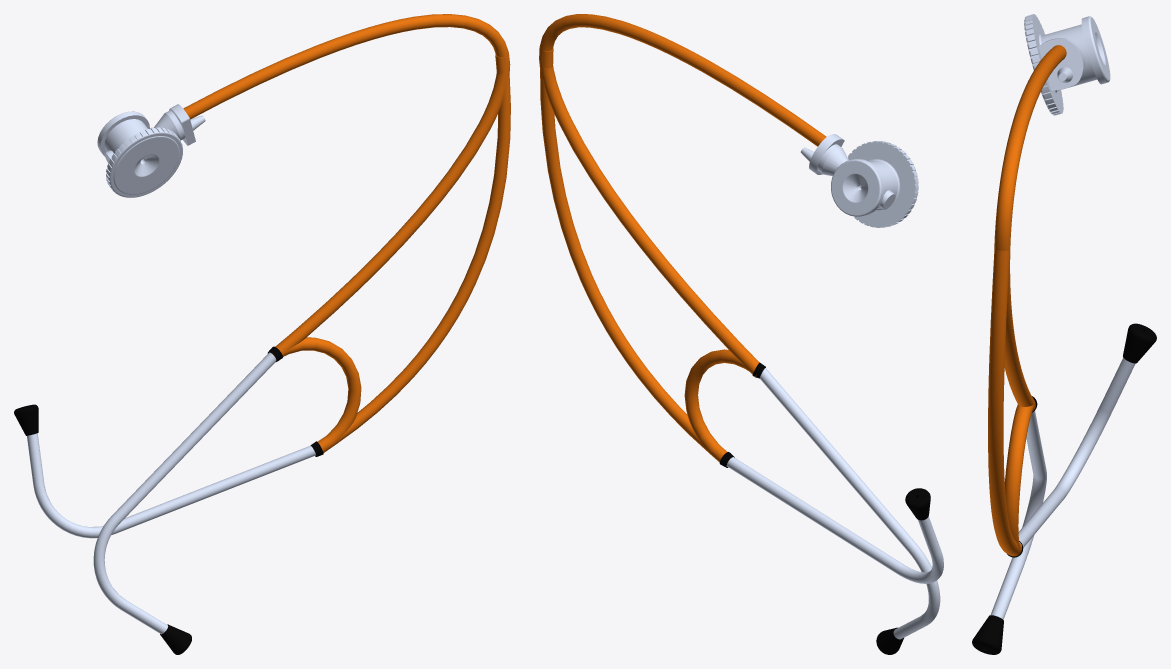
File: fonendoscopio.fbx
3 views of the same model, side by side, from view 1: azimuth 30°, elevation 25°; view 2: azimuth 150°, elevation 25°; view 3: azimuth 270°, elevation 25° (orthographic). The views are drawn at different scales.
Visible parts, largest first — view 1: Sweep5, Sweep1 (×2), Boss-Extrude9; view 2: Sweep5, Sweep1 (×2), Boss-Extrude9, Fillet1; view 3: Sweep5, Sweep1 (×2), Boss-Extrude9, Fillet1 (×2).
Boxes of the visible parts, x1=… form: Sweep5: x1=183, y1=14, x2=510, y2=452; Sweep1 (×2): x1=27, y1=352, x2=315, y2=634; Boss-Extrude9: x1=97, y1=104, x2=205, y2=197; Sweep5: x1=539, y1=14, x2=826, y2=462; Sweep1 (×2): x1=726, y1=368, x2=943, y2=639; Boss-Extrude9: x1=800, y1=134, x2=918, y2=227; Fillet1: x1=905, y1=488, x2=930, y2=520; Sweep5: x1=988, y1=45, x2=1066, y2=556; Sweep1 (×2): x1=990, y1=358, x2=1135, y2=619; Boss-Extrude9: x1=1024, y1=14, x2=1110, y2=115; Fillet1 (×2): x1=972, y1=323, x2=1156, y2=654.
Size of the model in its own units: 10.56 by 13.06 by 3.16.
